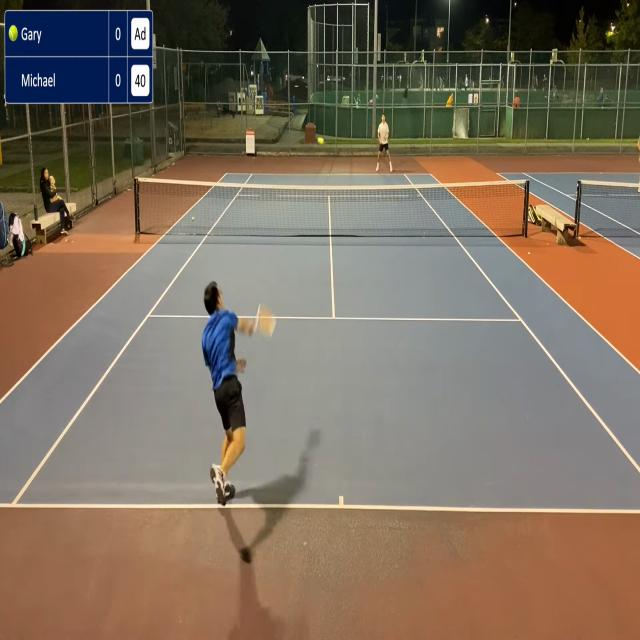ball: (8, 23, 18, 43), (318, 138, 324, 144), (192, 216, 194, 222)
